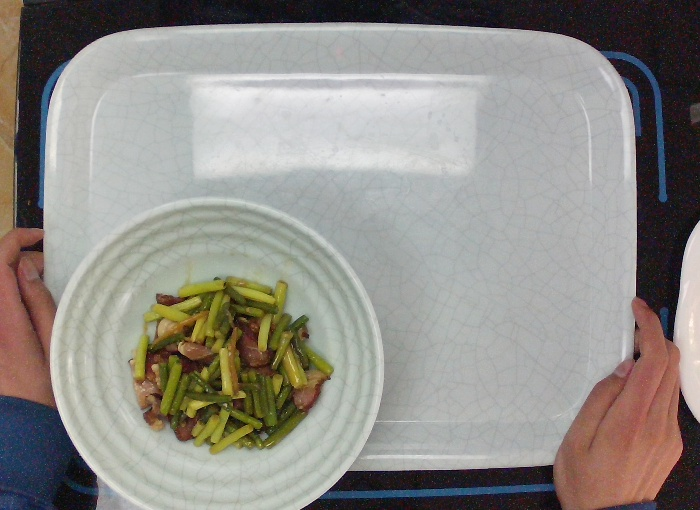JYsf-Da_Tang_Wan: (46, 193, 389, 510)
